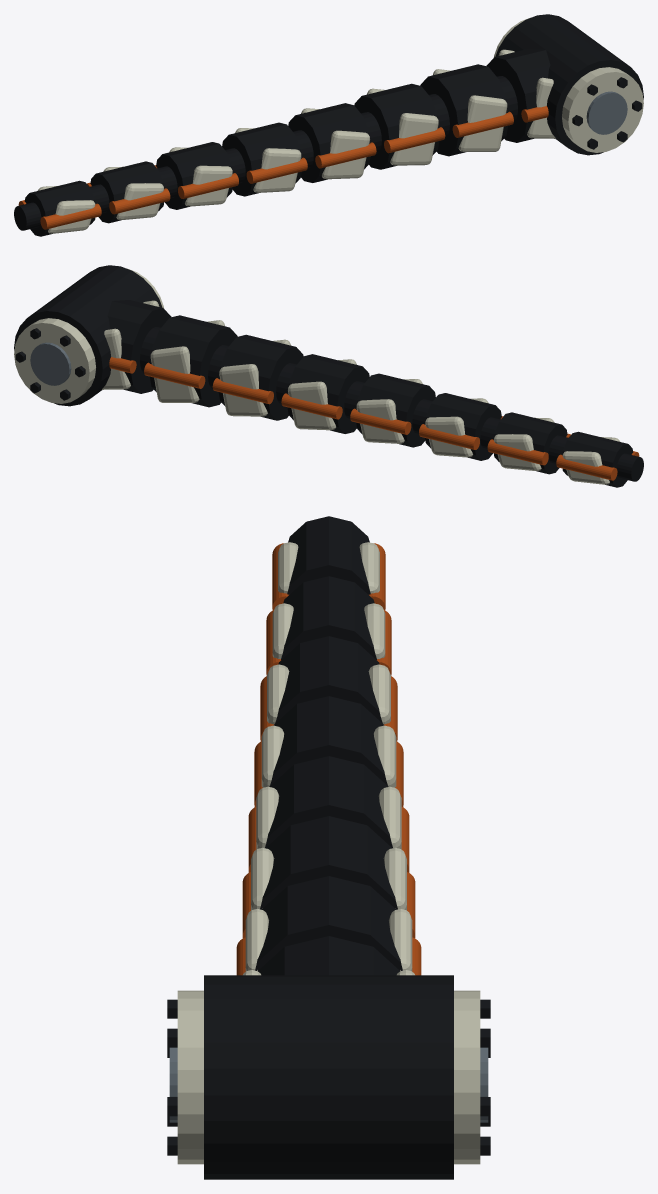
The model's file is tail_link.dae.
The picture shows the model from 3 angles, top to bottom: view 1: azimuth 30°, elevation 25°; view 2: azimuth 150°, elevation 25°; view 3: azimuth 270°, elevation 25°; orthographic projection. The views are drawn at different scales.
Parts seen in each view (by area): view 1: mesh0-node, mesh1-node, mesh23-node, mesh29-node, mesh17-node, mesh35-node, mesh41-node, mesh47-node, mesh53-node, mesh24-node, mesh30-node, mesh59-node (+23 smaller); view 2: mesh0-node, mesh9-node, mesh23-node, mesh29-node, mesh17-node, mesh35-node, mesh41-node, mesh47-node, mesh53-node, mesh25-node, mesh31-node, mesh59-node (+23 smaller); view 3: mesh0-node, mesh23-node, mesh29-node, mesh35-node, mesh41-node, mesh47-node, mesh53-node, mesh1-node, mesh9-node, mesh59-node, mesh17-node, mesh24-node (+9 smaller).
Part boxes in pixels (bbox=[...]): mesh0-node: bbox=[495, 14, 643, 155]; mesh1-node: bbox=[562, 67, 643, 152]; mesh23-node: bbox=[420, 64, 508, 156]; mesh29-node: bbox=[354, 83, 439, 169]; mesh17-node: bbox=[486, 49, 550, 142]; mesh35-node: bbox=[288, 103, 370, 182]; mesh41-node: bbox=[222, 122, 301, 196]; mesh47-node: bbox=[156, 142, 233, 209]; mesh53-node: bbox=[90, 161, 164, 223]; mesh24-node: bbox=[458, 95, 507, 151]; mesh30-node: bbox=[390, 113, 438, 165]; mesh59-node: bbox=[24, 180, 95, 236]; mesh0-node: bbox=[14, 265, 162, 406]; mesh9-node: bbox=[14, 318, 95, 403]; mesh23-node: bbox=[149, 315, 237, 407]; mesh29-node: bbox=[218, 334, 303, 420]; mesh17-node: bbox=[107, 300, 171, 393]; mesh35-node: bbox=[287, 354, 369, 433]; mesh41-node: bbox=[356, 373, 435, 447]; mesh47-node: bbox=[424, 393, 501, 460]; mesh53-node: bbox=[493, 412, 567, 474]; mesh25-node: bbox=[150, 346, 199, 402]; mesh31-node: bbox=[219, 364, 267, 416]; mesh59-node: bbox=[562, 431, 633, 487]; mesh0-node: bbox=[204, 975, 453, 1179]; mesh23-node: bbox=[255, 876, 402, 970]; mesh29-node: bbox=[260, 816, 397, 909]; mesh35-node: bbox=[265, 756, 392, 848]; mesh41-node: bbox=[270, 696, 387, 785]; mesh47-node: bbox=[275, 636, 382, 723]; mesh53-node: bbox=[281, 576, 376, 659]; mesh1-node: bbox=[177, 990, 203, 1164]; mesh9-node: bbox=[454, 990, 480, 1164]; mesh59-node: bbox=[287, 516, 370, 594]; mesh17-node: bbox=[258, 936, 399, 975]; mesh24-node: bbox=[245, 909, 268, 971].
Bounding box in the file's own units: 0.52 × 0.123 × 0.078.
